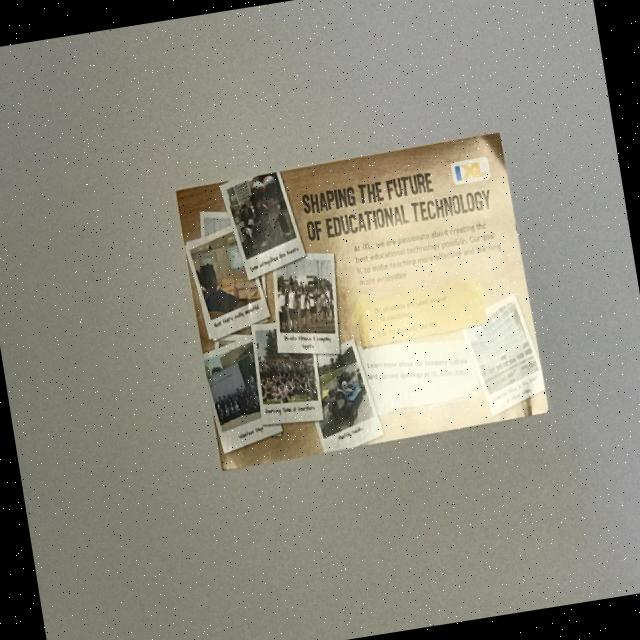paper: (174, 132, 550, 470)
